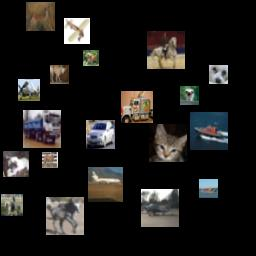airplane: (141, 189, 179, 227), (88, 167, 123, 202), (64, 18, 90, 44), (18, 79, 40, 101)
automobile: (86, 120, 115, 149)
bird: (180, 86, 199, 105)
cat: (149, 124, 187, 162)
deer: (26, 2, 55, 31)
dog: (3, 151, 29, 177), (50, 65, 69, 84), (209, 65, 228, 84), (83, 50, 99, 66)
ship: (190, 112, 228, 150), (199, 179, 218, 198)
truck: (23, 110, 61, 148), (121, 91, 153, 123)
